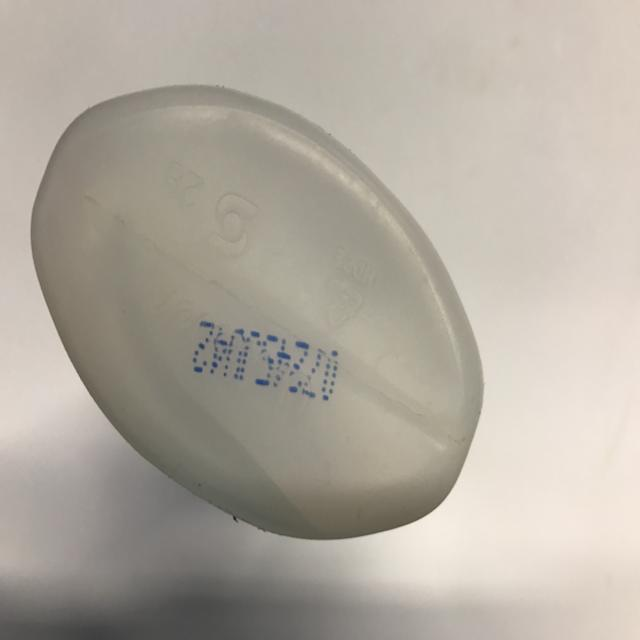plastic: (30, 82, 485, 541)
